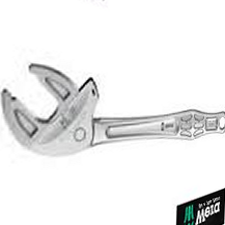Wrench: (2, 48, 225, 162)
